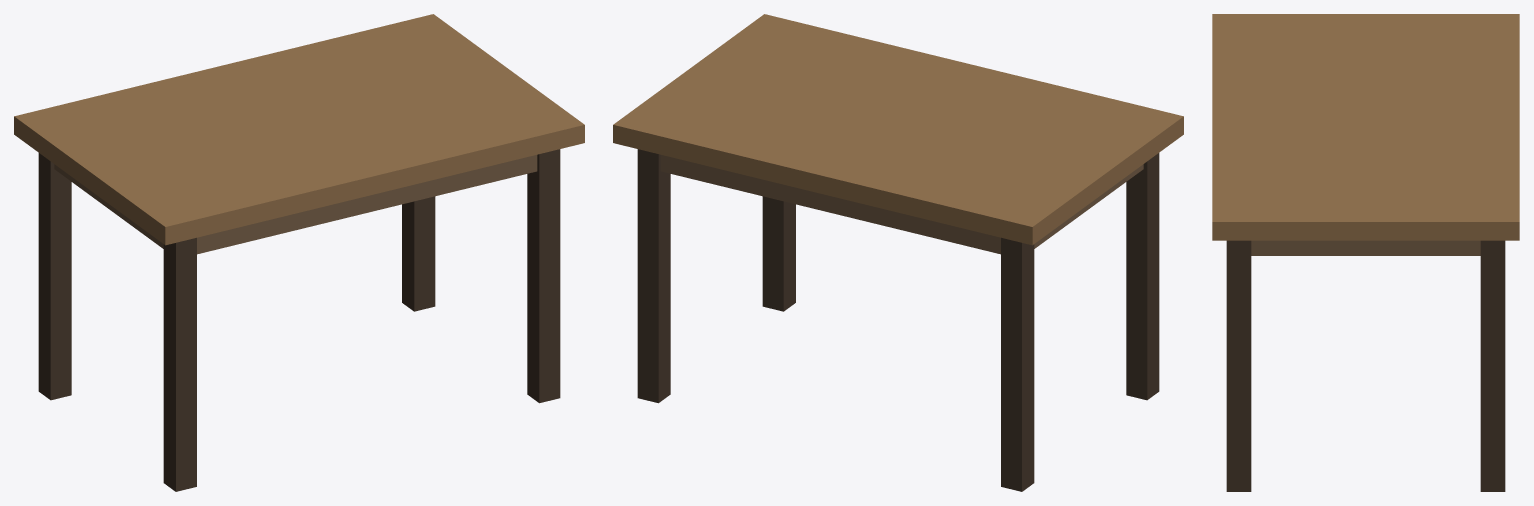
The model's file is int_table.glb.
3 views of the same model, side by side, from view 1: azimuth 30°, elevation 25°; view 2: azimuth 150°, elevation 25°; view 3: azimuth 270°, elevation 25° (orthographic).
Parts seen in each view (by area): view 1: int_table; view 2: int_table; view 3: int_table.
Part boxes in pixels (<box>): int_table: <box>14,14,584,491</box>; int_table: <box>613,14,1183,491</box>; int_table: <box>1212,14,1519,491</box>.
Size of the model in its own units: 1.2 by 0.75 by 0.75.
1 material, 1 textured.
